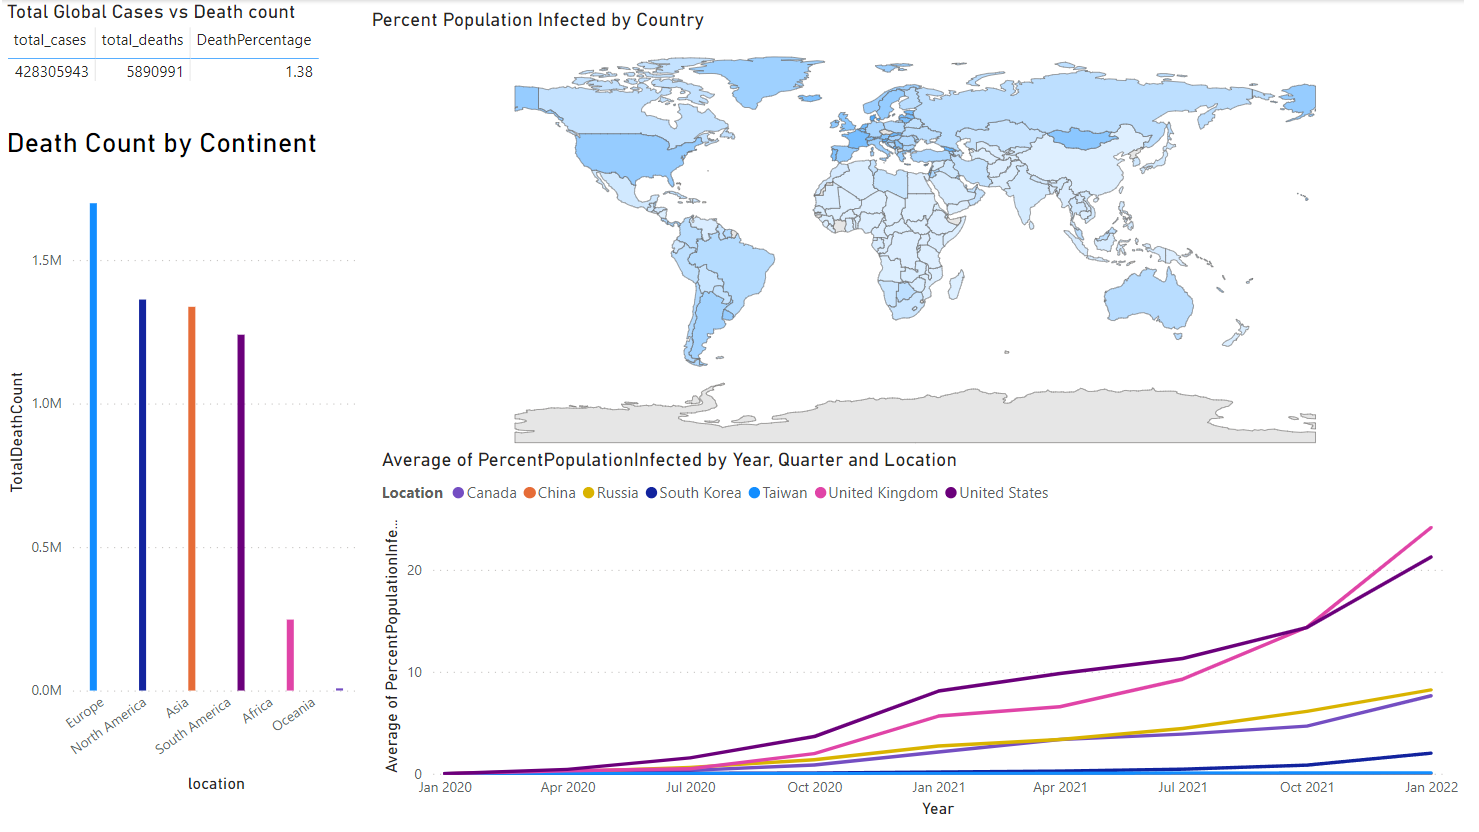

What the dashboard file says about the page in this screenshot:
{"tool":"powerbi","page":{"name":"Page 5","canvas":[1280,720],"ordinal":4},"visuals":[{"type":"tableEx","title":"Total Global Cases vs Death count","fields":{"Values":["Sum(tableau.total_cases)","Sum(tableau.total_deaths)","Sum(tableau.DeathPercentage)"]},"box":[0,0,319.3,111.1],"z":0},{"type":"clusteredColumnChart","title":"Death Count by Continent","fields":{"Category":["Sheet1.location"],"Y":["Sum(Sheet1.TotalDeathCount)"],"Series":["Sheet1.location"]},"box":[0,111.1,319.3,587],"z":1},{"type":"shapeMap","title":"Percent Population Infected by Country","fields":{"Category":["Sheet1 (2).Location"],"Value":["Avg(Sheet1 (2).PercentPopulationInfected)"]},"box":[319.3,7,960.6,404.2],"z":2},{"type":"lineChart","fields":{"Series":["Sheet1 (3).Location"],"Y":["Avg(Sheet1 (3).PercentPopulationInfected)"],"Category":["Sheet1 (3).date.Variation.Date Hierarchy.Year","Sheet1 (3).date.Variation.Date Hierarchy.Quarter","Sheet1 (3).date.Variation.Date Hierarchy.Month","Sheet1 (3).date.Variation.Date Hierarchy.Day"]},"box":[328.1,391.9,951.8,328.1],"z":3}]}

Visuals, with their boxes in screenshot pixels (x1, y1, x2, y2), scaled from the page's 1280x720 canvas onto the 1479x832 screenshot:
"Total Global Cases vs Death count" tableEx: x1=0 y1=0 x2=369 y2=128
"Death Count by Continent" clusteredColumnChart: x1=0 y1=128 x2=369 y2=807
"Percent Population Infected by Country" shapeMap: x1=369 y1=8 x2=1478 y2=475
lineChart - Sheet1 (3).Location x Avg(Sheet1 (3).PercentPopulationInfected): x1=379 y1=453 x2=1478 y2=831
